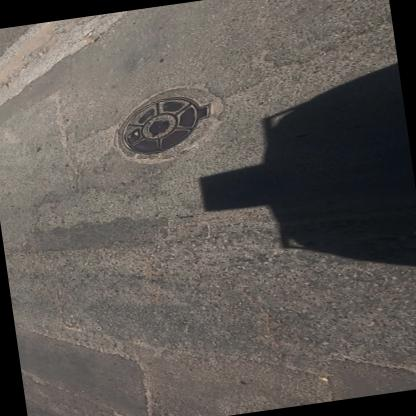manholes: (95, 73, 235, 171)
